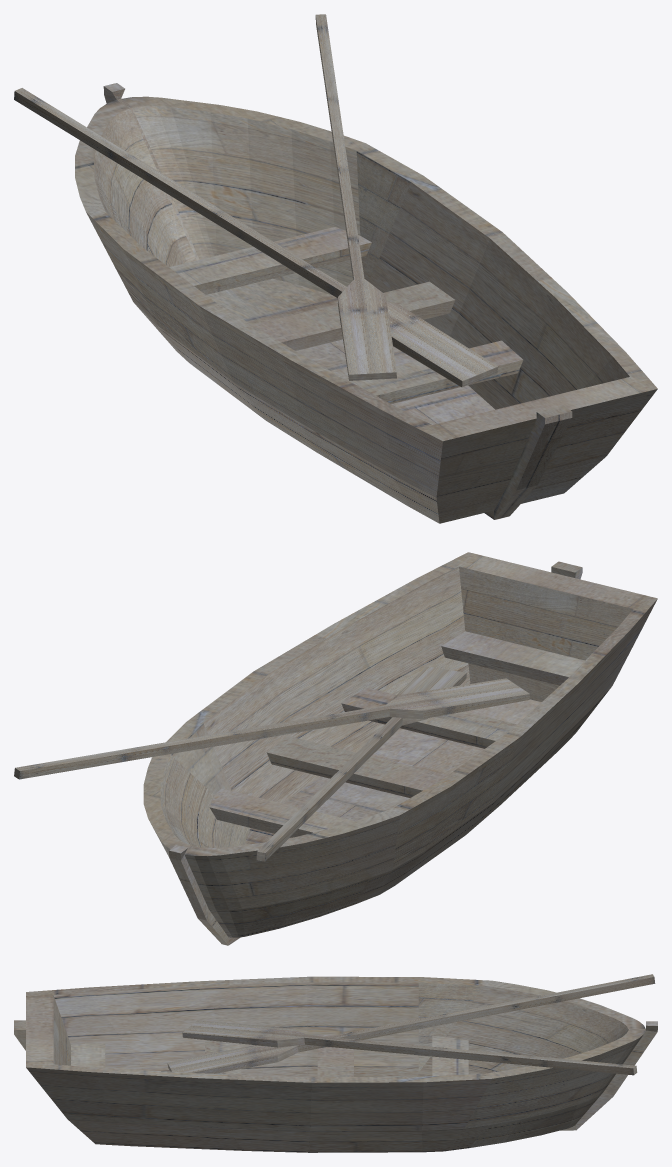
The model's file is WoodBoat.fbx.
3 views of the same model, one above another, from view 1: azimuth 30°, elevation 25°; view 2: azimuth 150°, elevation 25°; view 3: azimuth 270°, elevation 25° (orthographic). The views are drawn at different scales.
Visible parts, largest first — view 1: WoodBoat, Oar01, Oar02; view 2: WoodBoat, Oar02, Oar01; view 3: WoodBoat, Oar02, Oar01.
Boxes of the visible parts, bbox=[...] form: WoodBoat: bbox=[75, 83, 657, 523]; Oar01: bbox=[14, 88, 497, 387]; Oar02: bbox=[315, 14, 396, 380]; WoodBoat: bbox=[143, 552, 657, 945]; Oar02: bbox=[14, 678, 529, 779]; Oar01: bbox=[256, 666, 466, 861]; WoodBoat: bbox=[14, 976, 657, 1152]; Oar02: bbox=[182, 1020, 637, 1075]; Oar01: bbox=[167, 974, 655, 1073].
Bounding box in the file's own units: 2.33 × 1.15 × 5.16.
